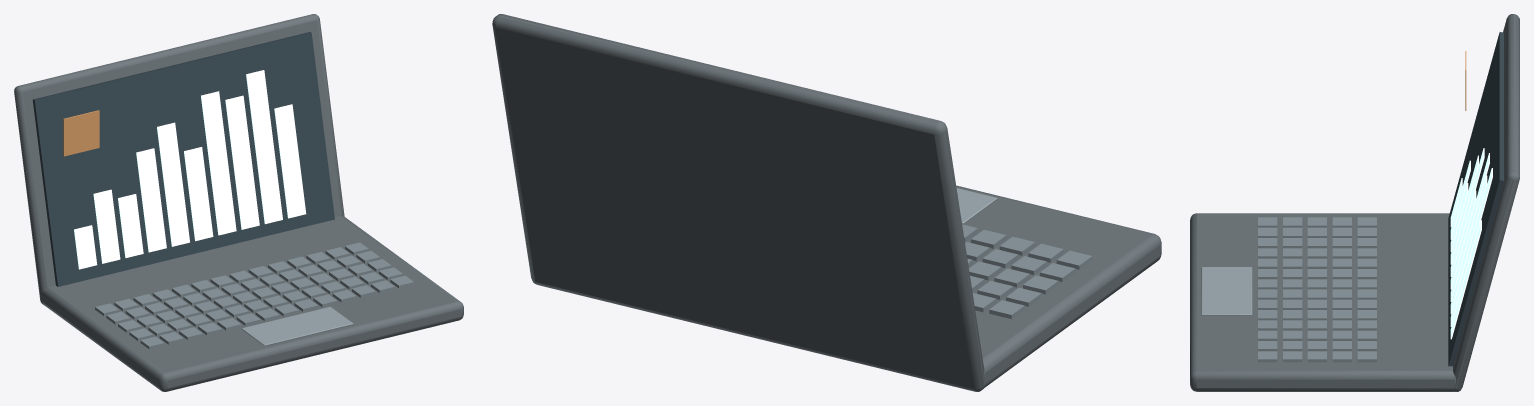
Rendered from crew_laptop.glb.
3 views of the same model, side by side, from view 1: azimuth 30°, elevation 25°; view 2: azimuth 150°, elevation 25°; view 3: azimuth 270°, elevation 25° (orthographic). The views are drawn at different scales.
Parts seen in each view (by area): view 1: laptop_screen_dark_glass, laptop_base_graphite, laptop_plot_screen_green, laptop_keys_dark_alloy, laptop_lid_graphite, laptop_pad_slate_panel, laptop_sticker_orange; view 2: laptop_lid_graphite, laptop_base_graphite, laptop_keys_dark_alloy, laptop_pad_slate_panel; view 3: laptop_base_graphite, laptop_keys_dark_alloy, laptop_lid_graphite, laptop_screen_dark_glass, laptop_plot_screen_green, laptop_pad_slate_panel.
Part boxes in pixels (bbox=[...]): laptop_screen_dark_glass: bbox=[32, 32, 334, 286]; laptop_base_graphite: bbox=[41, 216, 463, 391]; laptop_plot_screen_green: bbox=[74, 70, 306, 269]; laptop_keys_dark_alloy: bbox=[95, 242, 414, 349]; laptop_lid_graphite: bbox=[14, 14, 344, 304]; laptop_pad_slate_panel: bbox=[241, 306, 353, 345]; laptop_sticker_orange: bbox=[63, 110, 99, 156]; laptop_lid_graphite: bbox=[492, 14, 985, 391]; laptop_base_graphite: bbox=[956, 185, 1161, 387]; laptop_keys_dark_alloy: bbox=[962, 224, 1092, 319]; laptop_pad_slate_panel: bbox=[956, 188, 997, 224]; laptop_base_graphite: bbox=[1190, 213, 1456, 391]; laptop_keys_dark_alloy: bbox=[1258, 217, 1376, 362]; laptop_lid_graphite: bbox=[1453, 14, 1519, 391]; laptop_screen_dark_glass: bbox=[1448, 32, 1503, 366]; laptop_plot_screen_green: bbox=[1450, 148, 1492, 339]; laptop_pad_slate_panel: bbox=[1201, 267, 1252, 315].
Bounding box in the file's own units: 0.34 × 0.2139 × 0.2913.
